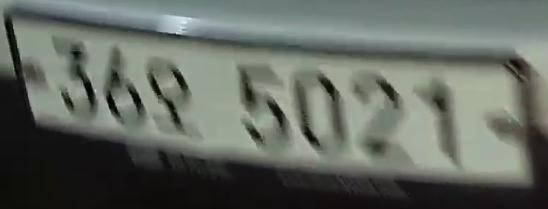0: (292, 65, 352, 159)
1: (413, 69, 470, 172)
2: (349, 65, 415, 167)
3: (49, 34, 101, 119)
5: (233, 64, 294, 155)
6: (100, 39, 147, 131)
오: (147, 49, 208, 142)
